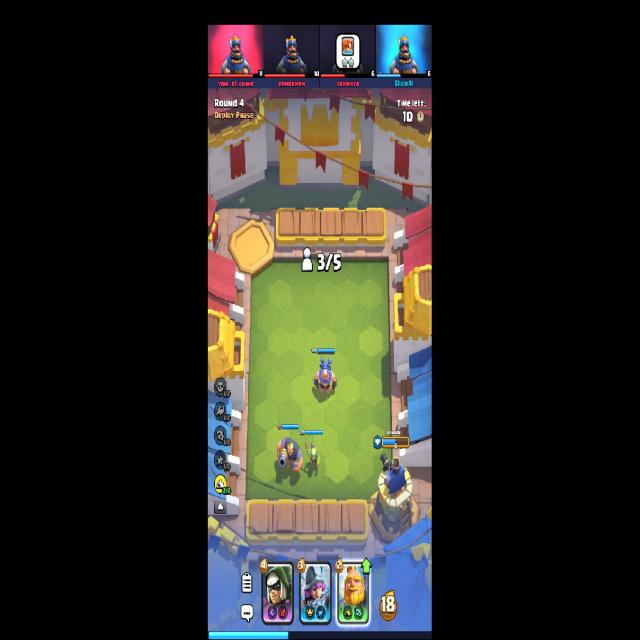card_bandit: (261, 562, 294, 624)
card_musketeer: (300, 561, 331, 624)
card_royal_giant: (336, 559, 370, 625)
electro_giant: (312, 356, 338, 394)
royal_giant: (277, 437, 302, 473)
spear_goblin: (305, 442, 320, 468)
